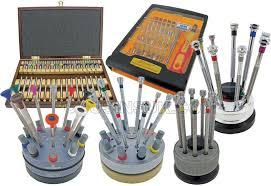screwdriver: (241, 22, 270, 105), (9, 92, 43, 147), (168, 22, 198, 73), (96, 78, 122, 131), (191, 40, 215, 92), (142, 100, 171, 143), (208, 45, 226, 109), (116, 75, 131, 129), (234, 45, 246, 109), (44, 111, 58, 164), (134, 100, 150, 146), (111, 102, 128, 145), (143, 91, 160, 130), (29, 85, 45, 126), (177, 96, 188, 153), (134, 74, 144, 131), (190, 99, 197, 156), (198, 88, 205, 142), (230, 21, 234, 81), (203, 99, 207, 154), (49, 85, 56, 113)
